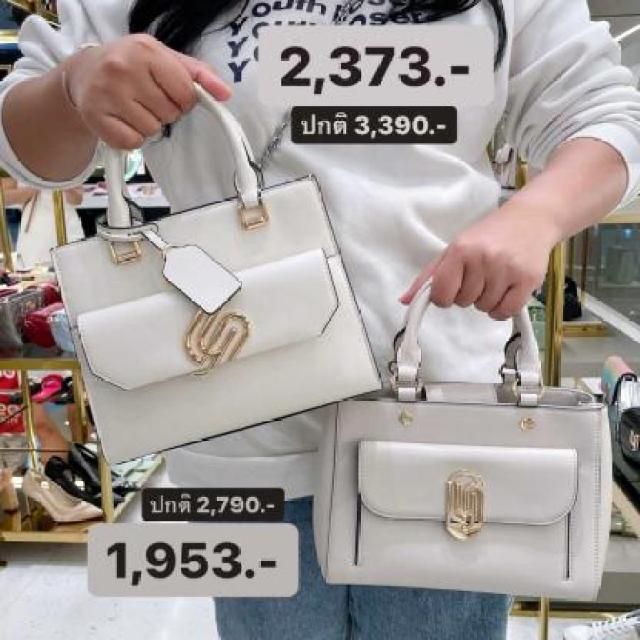Bag: (0, 50, 398, 481), (297, 260, 628, 629)
